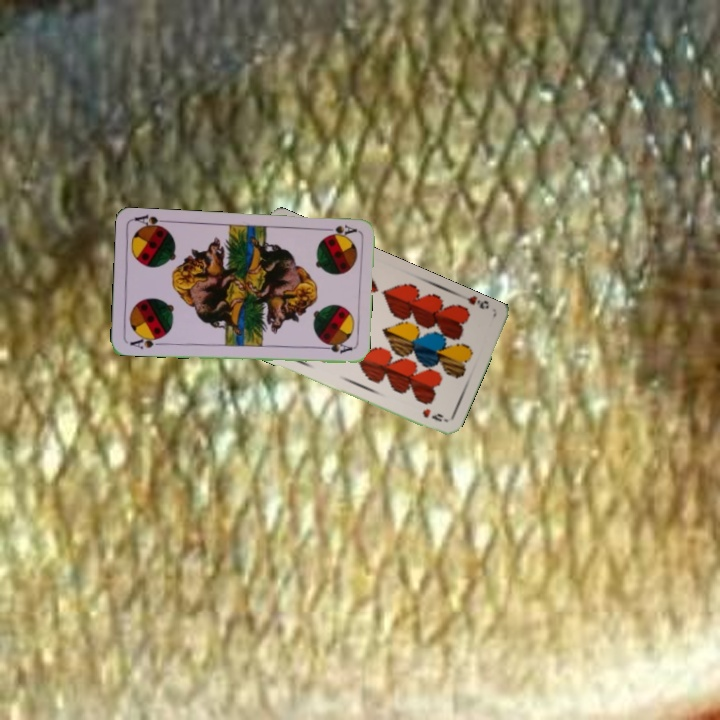H9: (463, 293, 492, 312)
SA: (126, 332, 166, 352), (319, 220, 359, 240)
